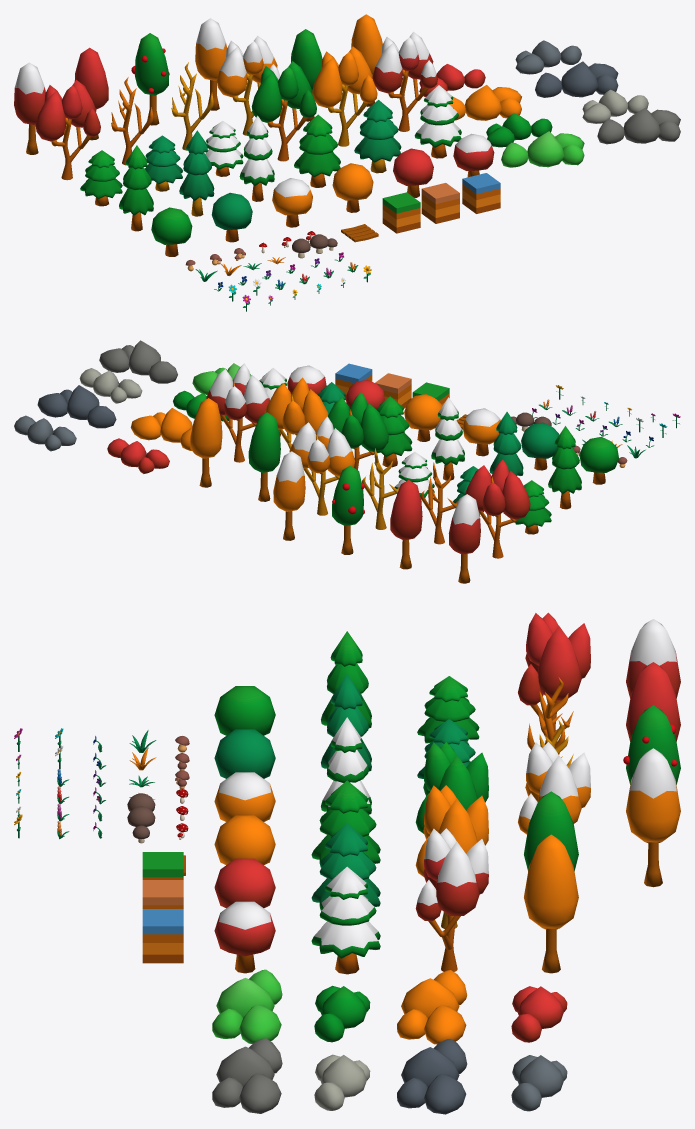
Rendered from nature_pack.glb.
3 views of the same model, one above another, from view 1: azimuth 30°, elevation 25°; view 2: azimuth 150°, elevation 25°; view 3: azimuth 270°, elevation 25° (orthographic). The views are drawn at different scales.
Visible parts, largest first — view 1: Tree_04.2, Tree_04.1_snow, Tree_04.1, Tree_04, Tree_04_snow, Bush_02, Stone_01, Stone_03, Tree_02.1, Tree_02, Tree_02_snow, Tree_05.3 (+27 smaller); view 2: Tree_04.2, Tree_04_snow, Tree_04.1_snow, Tree_04, Tree_04.1, Stone_01, Stone_03, Tree_05.2, Tree_05_snow, Tree_05.3, Tree_05.1, Tree_05 (+26 smaller); view 3: Tree_04.1_snow, Tree_04.2, Tree_02_snow, Tree_05.1, Tree_05_snow, Stone_01, Stone_03, Bush_02.2, Bush_02, Tree_04_snow, Tree_04.1, Tree_04 (+25 smaller).
Boxes of the visible parts, <box> form: Tree_04.2: <box>35,80,100,180</box>; Tree_04.1_snow: <box>372,31,437,131</box>; Tree_04.1: <box>312,46,377,146</box>; Tree_04: <box>251,61,316,161</box>; Tree_04_snow: <box>217,35,280,135</box>; Bush_02: <box>501,131,584,167</box>; Stone_01: <box>597,107,680,144</box>; Stone_03: <box>535,61,618,97</box>; Tree_02.1: <box>354,100,401,173</box>; Tree_02: <box>294,114,340,187</box>; Tree_02_snow: <box>414,85,461,158</box>; Tree_05.3: <box>131,33,169,125</box>; Tree_04.2: <box>465,459,530,558</box>; Tree_04_snow: <box>289,416,355,515</box>; Tree_04.1_snow: <box>206,363,269,462</box>; Tree_04: <box>327,392,388,470</box>; Tree_04.1: <box>264,377,328,448</box>; Stone_01: <box>99,340,177,383</box>; Stone_03: <box>37,385,116,428</box>; Tree_05.2: <box>390,480,422,569</box>; Tree_05_snow: <box>273,451,305,540</box>; Tree_05.3: <box>332,465,364,554</box>; Tree_05.1: <box>190,398,222,487</box>; Tree_05: <box>248,412,280,501</box>; Tree_04.1_snow: <box>415,828,488,971</box>; Tree_04.2: <box>518,612,590,754</box>; Tree_02_snow: <box>311,866,380,974</box>; Tree_05.1: <box>524,834,578,973</box>; Tree_05_snow: <box>626,748,680,887</box>; Stone_01: <box>212,1038,282,1113</box>; Stone_03: <box>397,1038,467,1114</box>; Bush_02.2: <box>397,970,467,1044</box>; Bush_02: <box>212,969,282,1043</box>; Tree_04_snow: <box>518,742,590,834</box>; Tree_04.1: <box>415,785,488,928</box>; Tree_04: <box>415,742,488,833</box>.
Size of the model in its own units: 8.28 by 1.41 by 6.01.
1 material, 1 textured.
